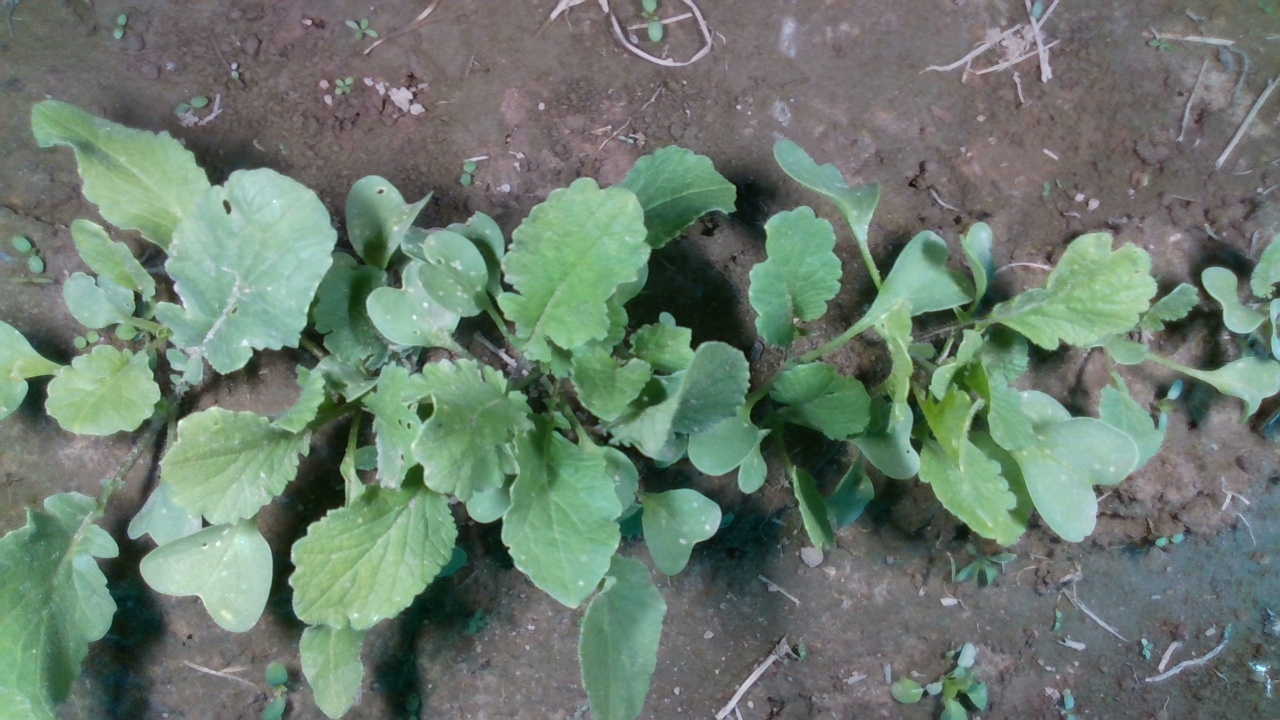weed: (9, 233, 44, 274), (344, 16, 379, 42), (170, 94, 208, 117), (458, 158, 477, 187), (72, 330, 100, 349), (112, 12, 127, 40), (334, 76, 354, 96), (6, 276, 54, 284), (229, 60, 240, 82)
